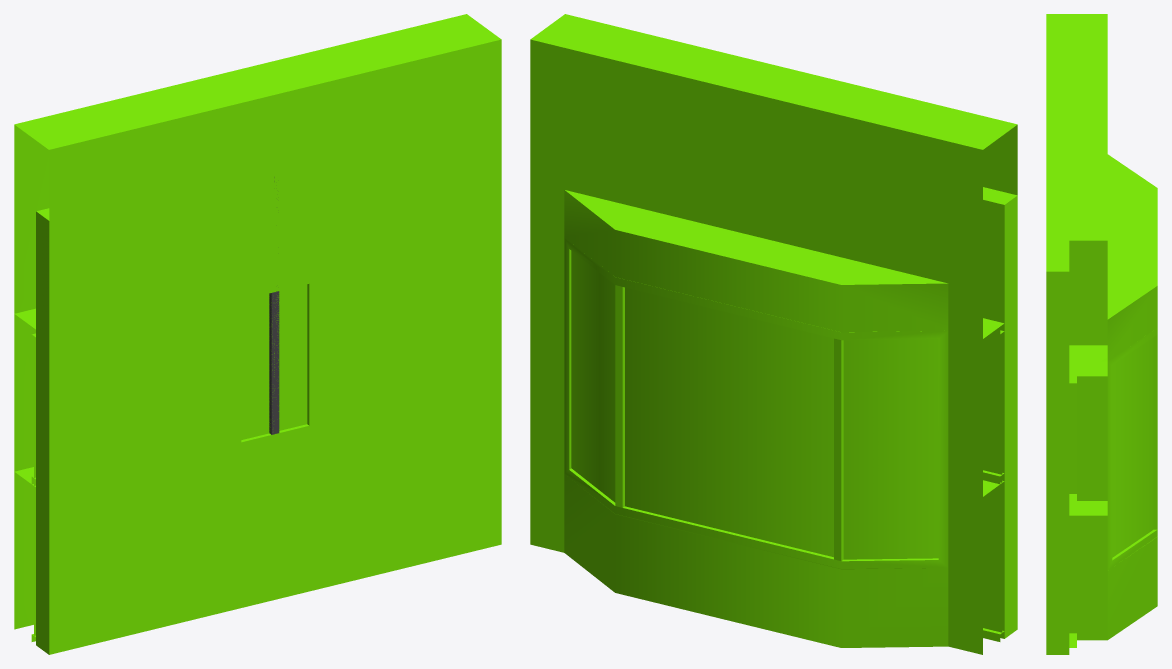
Rendered from bays_and_windows_pack_II.fbx.
3 renders of one model, left to right at view 1: azimuth 30°, elevation 25°; view 2: azimuth 150°, elevation 25°; view 3: azimuth 270°, elevation 25°, orthographic. The views are drawn at different scales.
Parts seen in each view (by area): view 1: modern_window_04B, modern_window_06, modern_window_02_A, modern_window_03, modern_bay_window_03, modern_window_05, modern_window_01_A, modern_window_04, modern_bay_window_02, modern_bay_window_02_A, modern_window_02_B, modern_bay_window_01_A (+6 smaller); view 2: modern_bay_window_03, modern_window_06, modern_window_01, modern_window_05, modern_window_04B, modern_window_02_B, modern_window_04, modern_window_01_A, modern_window_01_C, modern_bay_window_01_B, modern_bay_window_01, modern_window_03 (+6 smaller); view 3: modern_bay_window_03, modern_window_06, modern_window_05, modern_window_01, modern_bay_window_02, modern_window_04, modern_window_04B, modern_bay_window_01_C, modern_window_01_A, modern_window_01_C, modern_window_02_A, modern_bay_window_01 (+3 smaller).
Boxes of the visible parts, x1,y1,x2,y2 form: modern_window_04B: (17, 14, 501, 654); modern_window_06: (14, 14, 501, 654); modern_window_02_A: (49, 41, 501, 653); modern_window_03: (49, 112, 501, 495); modern_bay_window_03: (14, 41, 501, 649); modern_window_05: (16, 14, 499, 217); modern_window_01_A: (16, 17, 501, 653); modern_window_04: (49, 111, 501, 496); modern_bay_window_02: (49, 230, 501, 646); modern_bay_window_02_A: (18, 127, 501, 651); modern_window_02_B: (14, 232, 501, 494); modern_bay_window_01_A: (36, 332, 49, 654); modern_bay_window_03: (564, 68, 1017, 654); modern_window_06: (530, 14, 1017, 654); modern_window_01: (531, 15, 1017, 653); modern_window_05: (530, 14, 1017, 654); modern_window_04B: (530, 15, 1017, 654); modern_window_02_B: (534, 47, 1004, 636); modern_window_04: (530, 41, 980, 536); modern_window_01_A: (531, 41, 1017, 635); modern_window_01_C: (530, 16, 1010, 646); modern_bay_window_01_B: (983, 334, 1004, 641); modern_bay_window_01: (532, 40, 1017, 650); modern_window_03: (530, 40, 982, 652); modern_bay_window_03: (1046, 154, 1157, 639); modern_window_06: (1046, 14, 1107, 515); modern_window_05: (1046, 14, 1107, 345); modern_window_01: (1046, 15, 1107, 500); modern_bay_window_02: (1069, 383, 1107, 640); modern_window_04: (1046, 209, 1107, 345); modern_window_04B: (1046, 14, 1107, 208); modern_bay_window_01_C: (1046, 390, 1069, 654); modern_window_01_A: (1048, 14, 1107, 515); modern_window_01_C: (1046, 14, 1107, 515); modern_window_02_A: (1069, 345, 1107, 515); modern_bay_window_01: (1077, 349, 1107, 640).
Size of the model in its own units: 300 by 320 by 72.5.
